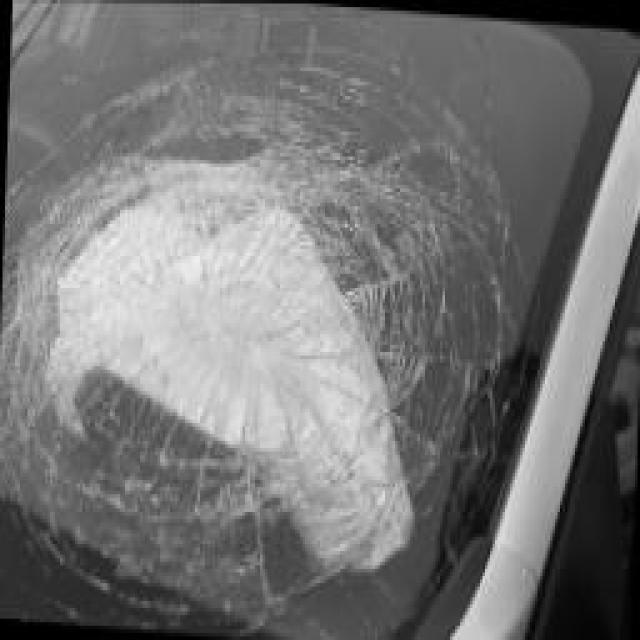Windshield: (0, 0, 558, 640)
